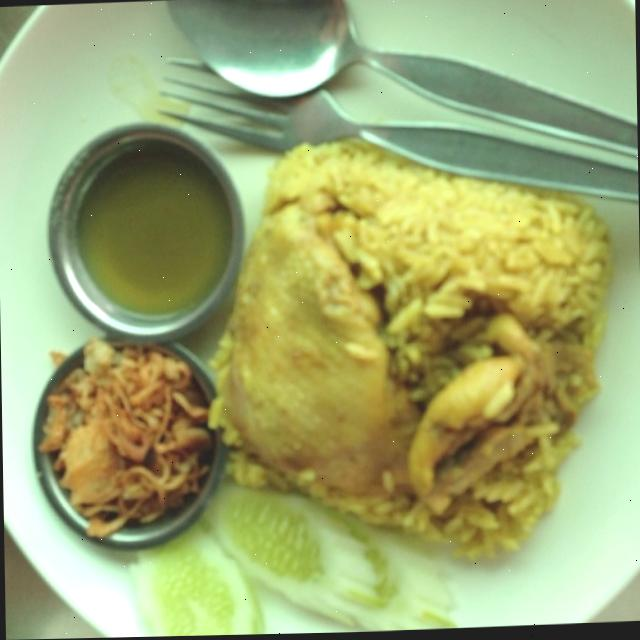米饭主食: (18, 0, 634, 633)
